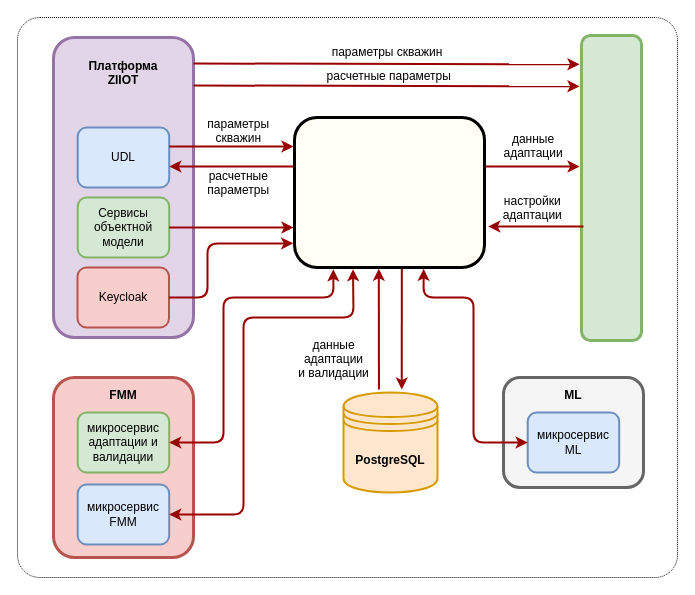
The diagram is 695 pixels wide and 595 high, and some of its shapes have lost their labels. The shapes that lost their labels are listed below. From the top down, each one's box as (x1, y1, x2, y2) in pixels, then its label:
(292, 116, 486, 268): VR Calculation Backend
(580, 34, 642, 342): VR Frontend
